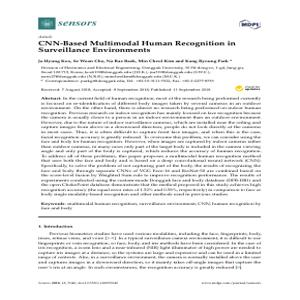image: (31, 12, 99, 34), (233, 14, 265, 34)
text: (32, 37, 265, 272)
